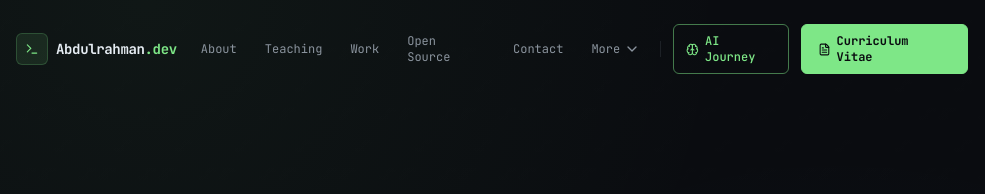
Test case: Header › should render More popover containing Skills and Proof
Click the button "More": x=616, y=49 [579,27,652,71]
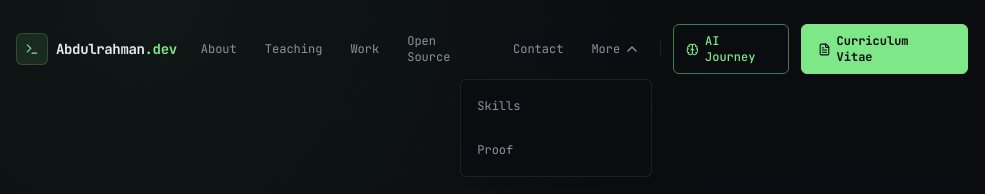
Check: the menu item "Skills" is shown, box [477,98,520,114]
Check: the menu item "Proof" is shown, box [477,142,513,158]
